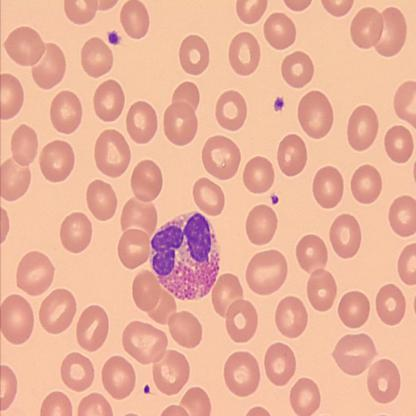Eosinophil: (149, 212, 223, 300)
